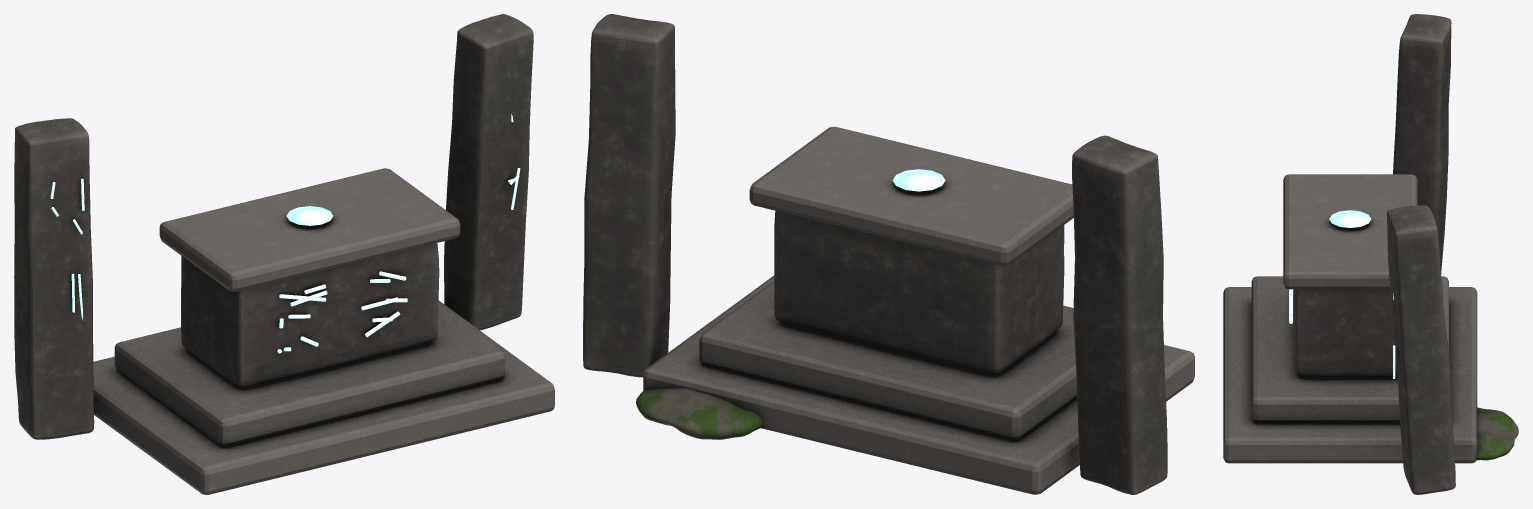
Rendered from vale_altar_runas.glb.
The picture shows the model from 3 angles, left to right: view 1: azimuth 30°, elevation 25°; view 2: azimuth 150°, elevation 25°; view 3: azimuth 270°, elevation 25°; orthographic projection. The views are drawn at different scales.
Parts seen in each view (by area): view 1: vale_altar_runas_tronco, brilho; view 2: vale_altar_runas_tronco, brilho; view 3: vale_altar_runas_tronco, brilho.
Boxes of the visible parts, box(x1,y1,x2,y2) form: vale_altar_runas_tronco: box(14, 14, 554, 494); brilho: box(286, 206, 333, 225); vale_altar_runas_tronco: box(583, 14, 1194, 494); brilho: box(892, 169, 945, 191); vale_altar_runas_tronco: box(1223, 14, 1518, 494); brilho: box(1329, 210, 1371, 227).
Bounding box in the file's own units: 3.68 × 2.16 × 2.09.
29 materials, 1 textured.
